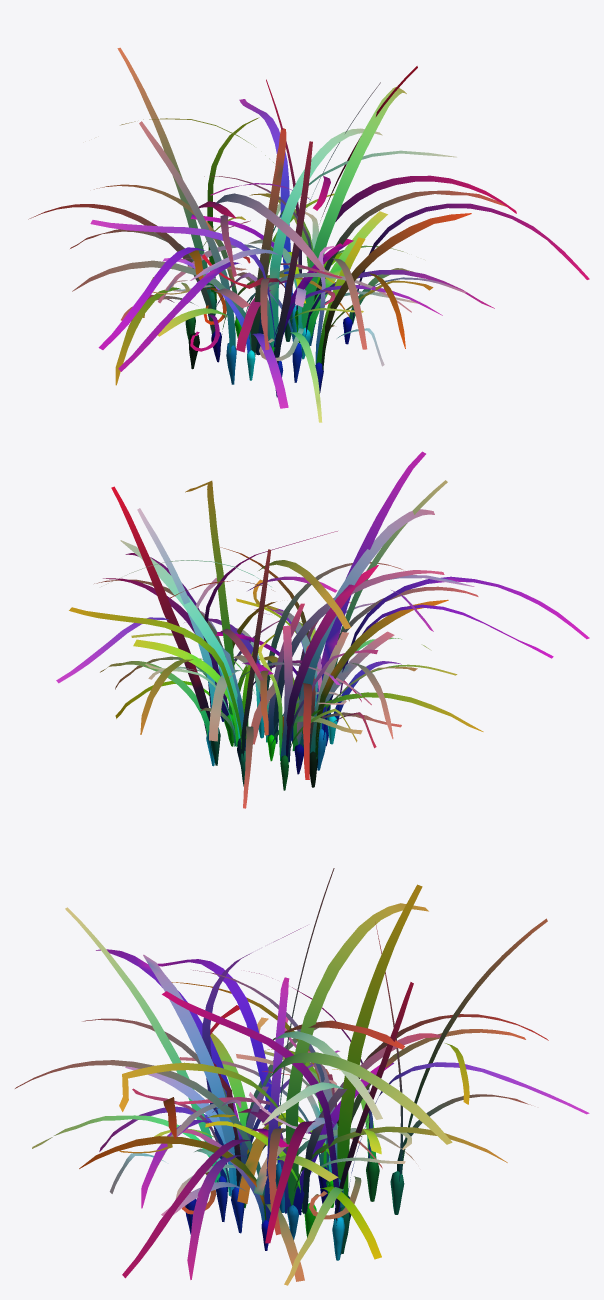
File: Ribbon_Grass_tbdpec3r_High_tbdpec3r_VarC_LOD0.glb
3 renders of one model, top to bottom at view 1: azimuth 30°, elevation 25°; view 2: azimuth 150°, elevation 25°; view 3: azimuth 270°, elevation 25°, orthographic. The views are drawn at different scales.
Parts seen in each view (by area): view 1: _3cd0_VarC_LOD0; view 2: _3cd0_VarC_LOD0; view 3: _3cd0_VarC_LOD0.
Boxes of the visible parts, <box> form: _3cd0_VarC_LOD0: <box>28,47,589,422</box>; _3cd0_VarC_LOD0: <box>56,451,589,808</box>; _3cd0_VarC_LOD0: <box>15,868,589,1285</box>.
Bounding box in the file's own units: 0.6042 × 0.3733 × 0.5345.
